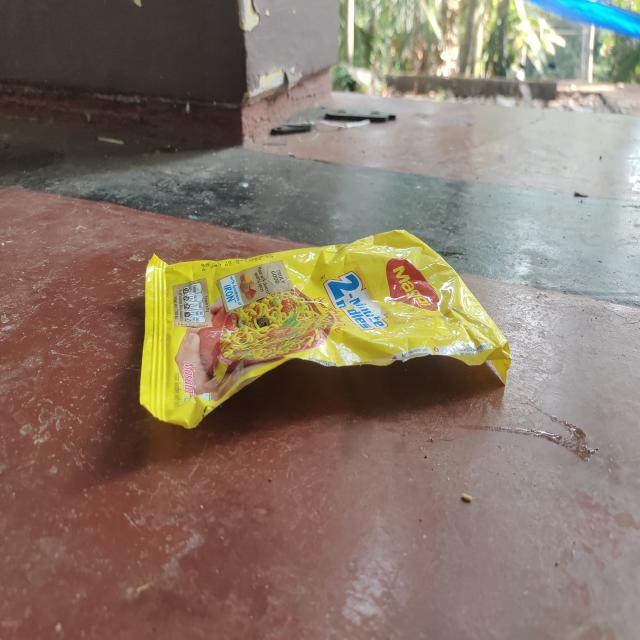plastic: (136, 226, 511, 430)
